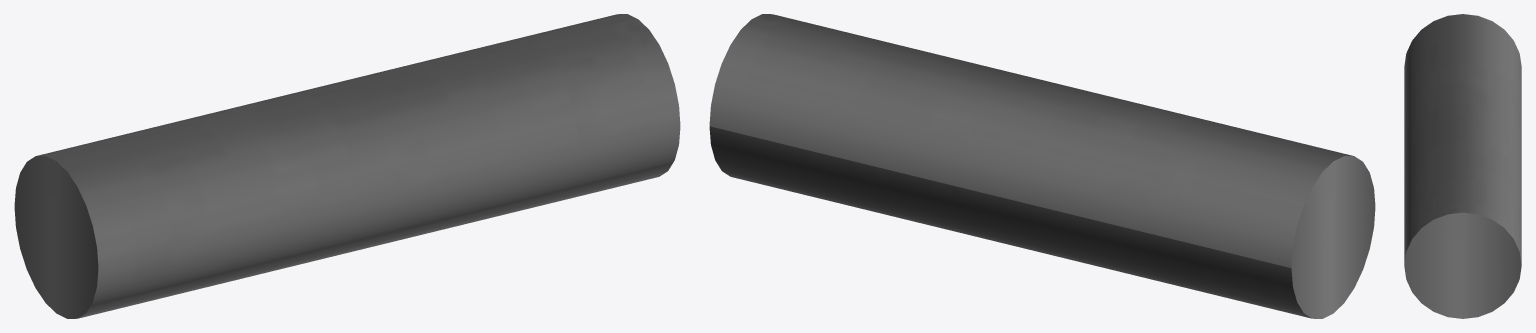
Rendered from metal.fbx.
The picture shows the model from 3 angles, left to right: view 1: azimuth 30°, elevation 25°; view 2: azimuth 150°, elevation 25°; view 3: azimuth 270°, elevation 25°; orthographic projection. The views are drawn at different scales.
Visible parts, largest first — view 1: Px0_1; view 2: Px0_1; view 3: Px0_1.
Part boxes in pixels (bbox=[...]): Px0_1: bbox=[14, 14, 680, 318]; Px0_1: bbox=[709, 14, 1375, 318]; Px0_1: bbox=[1404, 14, 1521, 318].
Bounding box in the file's own units: 100 × 25 × 25.
